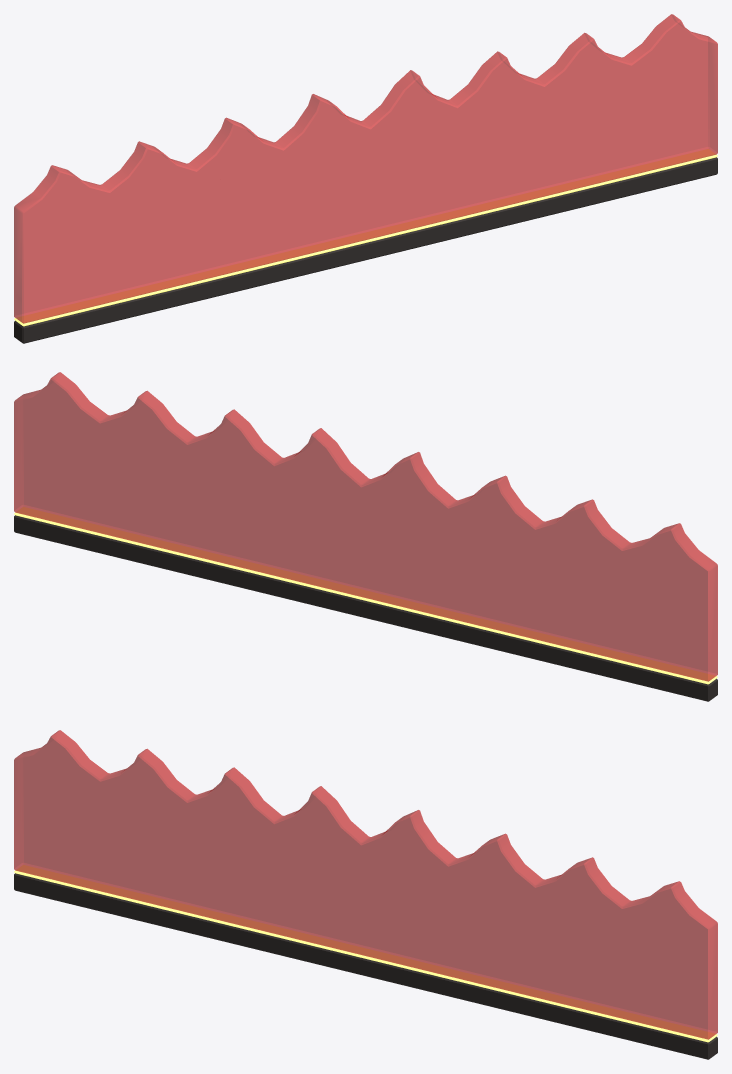
Rendered from rabatoire_bas_droite_Modele.fbx.
3 renders of one model, top to bottom at view 1: azimuth 30°, elevation 25°; view 2: azimuth 150°, elevation 25°; view 3: azimuth 330°, elevation 25°, orthographic.
Visible parts, largest first — view 1: rabatoire_bas_droite_Modele; view 2: rabatoire_bas_droite_Modele; view 3: rabatoire_bas_droite_Modele.
Part boxes in pixels (x1,y1,x2,y2): rabatoire_bas_droite_Modele: (14, 14, 717, 343); rabatoire_bas_droite_Modele: (14, 372, 717, 701); rabatoire_bas_droite_Modele: (14, 730, 717, 1059).
Bounding box in the file's own units: 4.2 × 0.9884 × 0.1.
